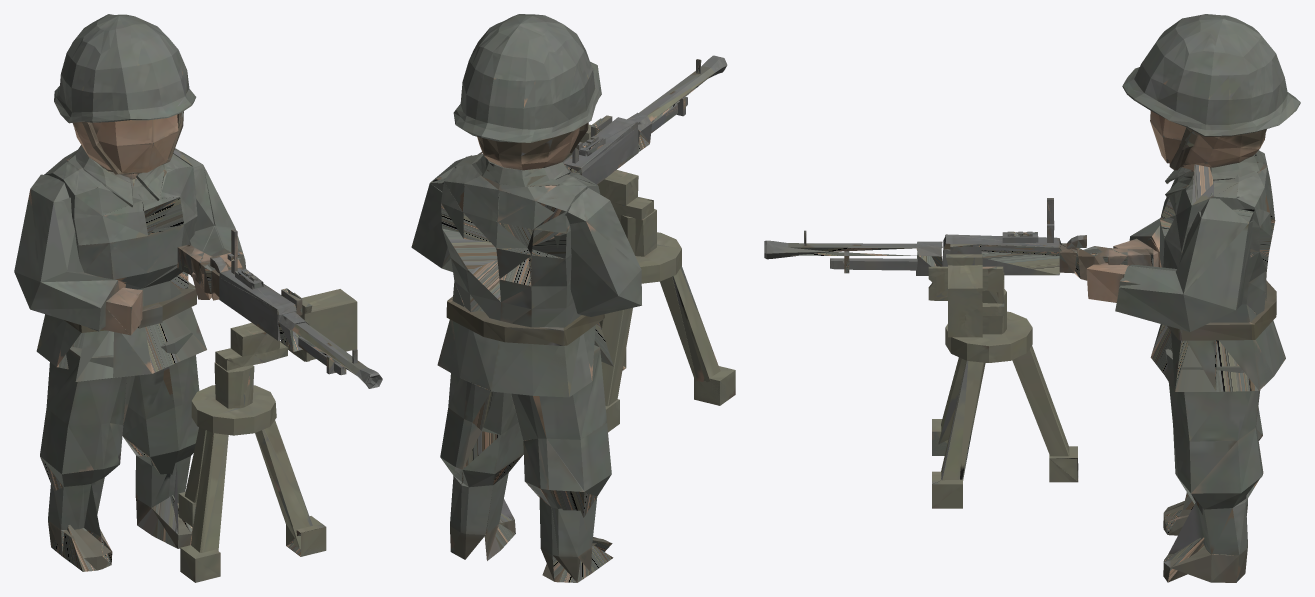
Rendered from sicily_italian_garrison_0.glb.
3 views of the same model, side by side, from view 1: azimuth 30°, elevation 25°; view 2: azimuth 150°, elevation 25°; view 3: azimuth 270°, elevation 25° (orthographic). The views are drawn at different scales.
Visible parts, largest first — view 1: geometry_0; view 2: geometry_0; view 3: geometry_0.
Part boxes in pixels (bbox=[...]): geometry_0: bbox=[14, 14, 382, 582]; geometry_0: bbox=[411, 14, 735, 582]; geometry_0: bbox=[764, 14, 1300, 582].
Size of the model in its own units: 0.1349 by 0.324 by 0.2951.
1 material, 1 textured.
